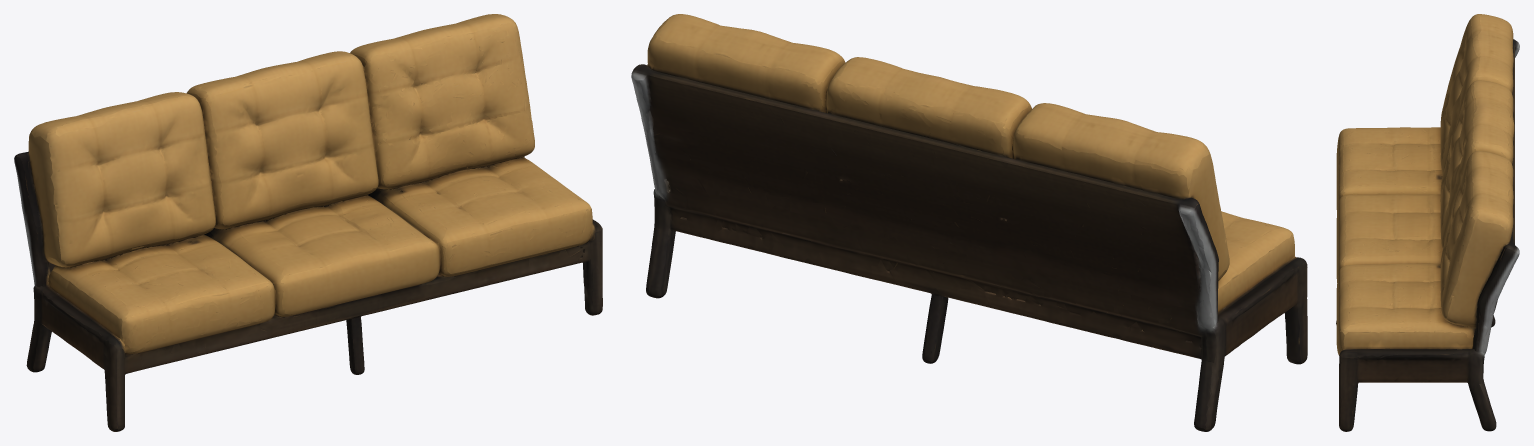
Rendered from item_78a1ac5c.glb.
The picture shows the model from 3 angles, left to right: view 1: azimuth 30°, elevation 25°; view 2: azimuth 150°, elevation 25°; view 3: azimuth 270°, elevation 25°; orthographic projection. The views are drawn at different scales.
Parts seen in each view (by area): view 1: world; view 2: world; view 3: world.
Boxes of the visible parts, x1,y1,x2,y2 form: world: (14,14,602,431); world: (631,14,1307,431); world: (1336,14,1519,431).
Size of the model in its own units: 2.1 by 0.994 by 0.7598.
Materials: 1 (1 with a texture image).
